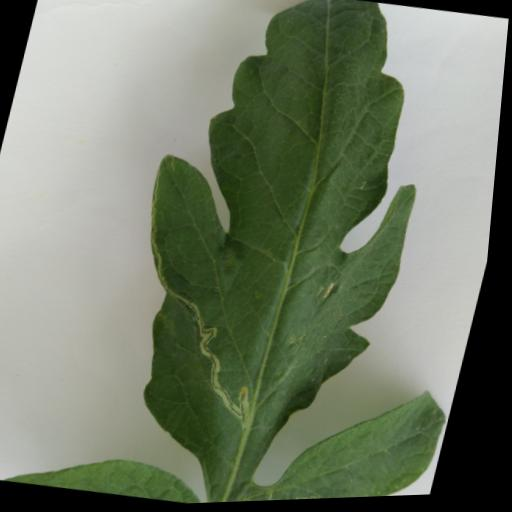Leaf_Miner: (88, 205, 382, 465)
